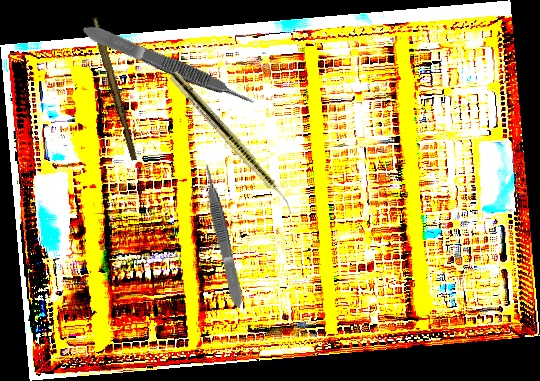Handpiece: (167, 70, 300, 216)
Scalpel Handle: (87, 16, 141, 162)
Tissue Forceps: (80, 19, 258, 113), (200, 161, 246, 310)
